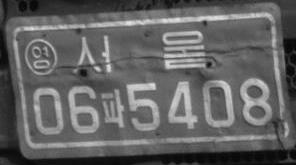0: (201, 79, 234, 128), (32, 86, 63, 135)
4: (166, 80, 198, 128)
5: (125, 81, 160, 131)
6: (67, 84, 100, 135)
8: (239, 76, 272, 126)
서울_D: (71, 29, 206, 75)
영: (23, 38, 57, 75)
파: (100, 88, 125, 129)
